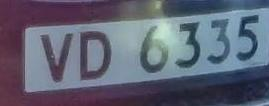3: (169, 15, 208, 76), (203, 15, 237, 71)
5: (234, 11, 262, 65)
6: (133, 19, 176, 79)
D: (74, 24, 117, 85)
V: (33, 27, 79, 85)
